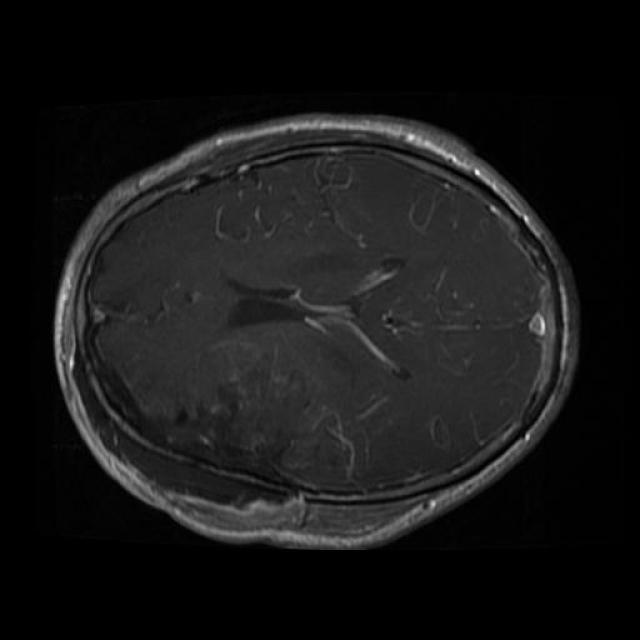Glioma: (101, 367, 306, 530)
